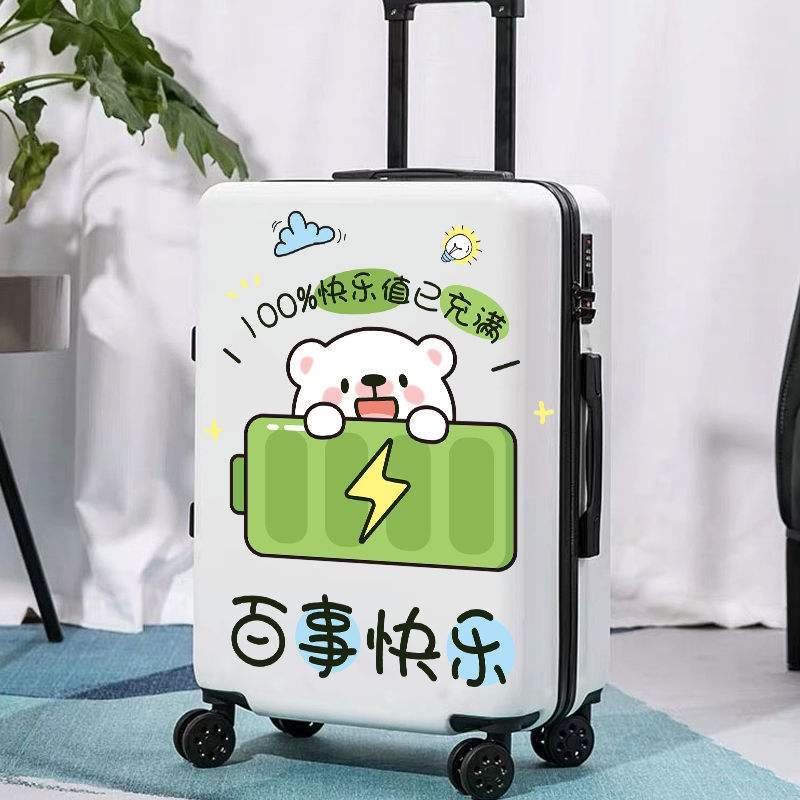box: (193, 179, 613, 733)
handle: (578, 352, 603, 558)
lock: (582, 232, 595, 326)
wheel: (446, 737, 515, 800), (173, 708, 237, 768), (531, 717, 595, 768)
